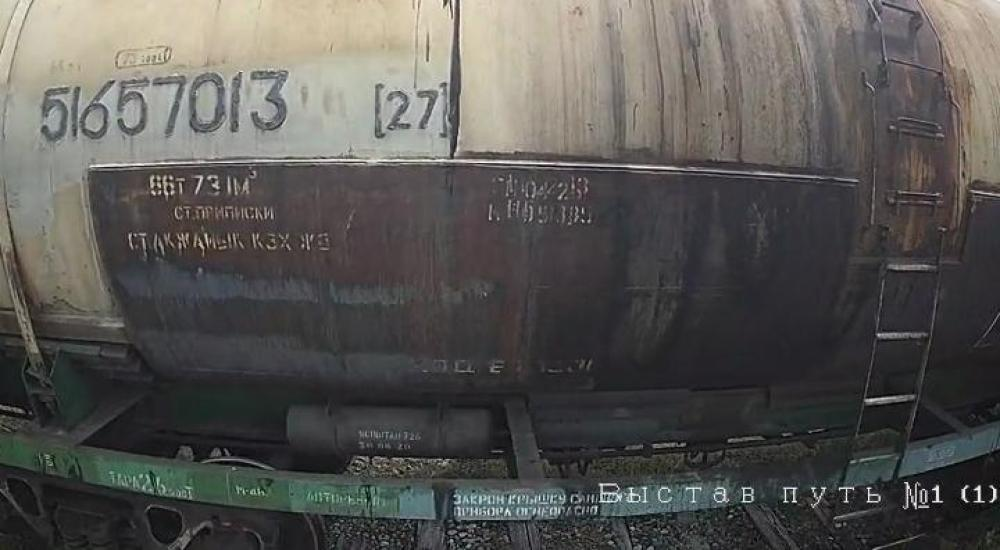Wagon-number: (34, 66, 298, 146)
